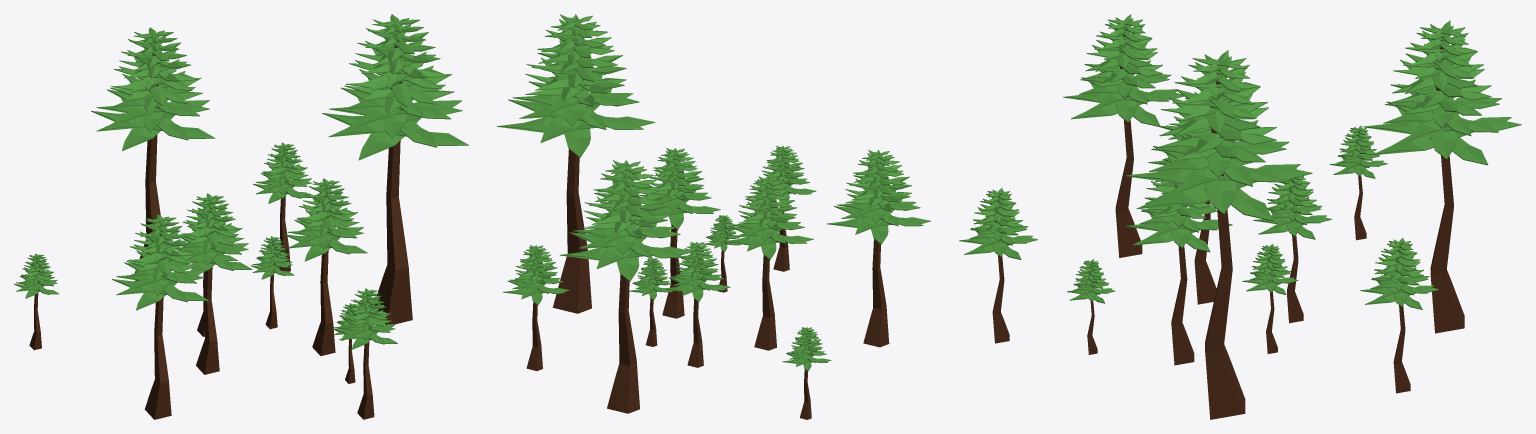
The model's file is TreeFix.fbx.
3 renders of one model, left to right at view 1: azimuth 30°, elevation 25°; view 2: azimuth 150°, elevation 25°; view 3: azimuth 270°, elevation 25°, orthographic. The views are drawn at different scales.
Visible parts, largest first — view 1: Leaves008, Leaves006, Leaves009, Tree009, Leaves003, Leaves011, Leaves002, Leaves007, Tree010, Tree002, Tree004, Leaves005 (+4 smaller); view 2: Leaves008, Leaves006, Leaves009, Leaves011, Tree009, Leaves003, Tree007, Leaves001, Leaves007, Tree010, Leaves002, Tree002 (+7 smaller); view 3: Leaves008, Leaves006, Leaves009, Tree009, Leaves003, Tree007, Leaves002, Leaves007, Leaves001, Tree010, Leaves005, Leaves004 (+6 smaller).
Part boxes in pixels (x1=…): Leaves008: x1=322, y1=14, x2=468, y2=160; Leaves006: x1=91, y1=27, x2=215, y2=150; Leaves009: x1=112, y1=214, x2=208, y2=310; Tree009: x1=375, y1=41, x2=412, y2=324; Leaves003: x1=284, y1=178, x2=367, y2=261; Leaves011: x1=176, y1=193, x2=252, y2=271; Leaves002: x1=336, y1=288, x2=397, y2=349; Leaves007: x1=253, y1=142, x2=311, y2=203; Tree010: x1=144, y1=235, x2=171, y2=419; Tree002: x1=196, y1=212, x2=219, y2=374; Tree004: x1=312, y1=196, x2=335, y2=355; Leaves005: x1=14, y1=253, x2=58, y2=298; Leaves008: x1=497, y1=14, x2=655, y2=157; Leaves006: x1=559, y1=160, x2=693, y2=281; Leaves009: x1=827, y1=150, x2=930, y2=244; Leaves011: x1=722, y1=176, x2=813, y2=259; Tree009: x1=553, y1=50, x2=591, y2=313; Leaves003: x1=639, y1=148, x2=720, y2=229; Tree007: x1=607, y1=190, x2=639, y2=413; Leaves001: x1=664, y1=241, x2=730, y2=301; Leaves007: x1=503, y1=245, x2=569, y2=305; Tree010: x1=863, y1=173, x2=889, y2=347; Leaves002: x1=750, y1=145, x2=816, y2=201; Tree002: x1=754, y1=255, x2=776, y2=350; Leaves008: x1=1125, y1=50, x2=1312, y2=221; Leaves006: x1=1363, y1=20, x2=1521, y2=165; Leaves009: x1=1063, y1=14, x2=1184, y2=126; Tree009: x1=1205, y1=70, x2=1245, y2=419; Leaves003: x1=1126, y1=159, x2=1232, y2=252; Tree007: x1=1430, y1=38, x2=1464, y2=333; Leaves002: x1=959, y1=187, x2=1037, y2=259; Leaves007: x1=1360, y1=237, x2=1438, y2=309; Leaves001: x1=1253, y1=168, x2=1331, y2=239; Tree010: x1=1115, y1=35, x2=1142, y2=257; Leaves005: x1=1329, y1=125, x2=1387, y2=178; Leaves004: x1=1242, y1=244, x2=1298, y2=294.
Bounding box in the file's own units: 2925 × 2141 × 3104.
